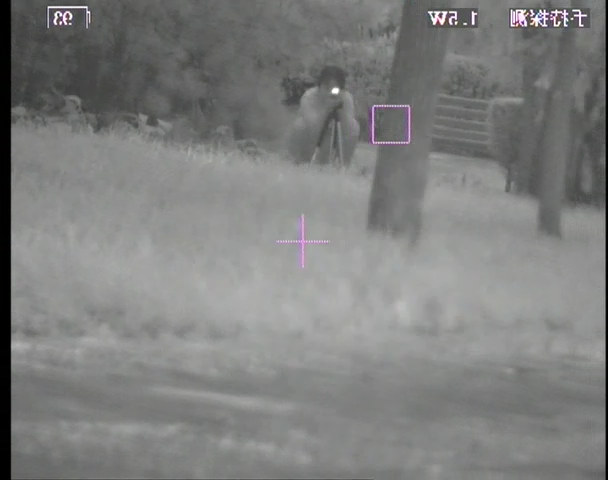my: (329, 85, 340, 97)
